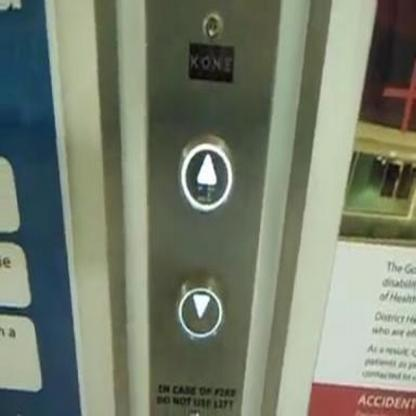down: (175, 270, 224, 340)
up: (177, 132, 233, 212)
